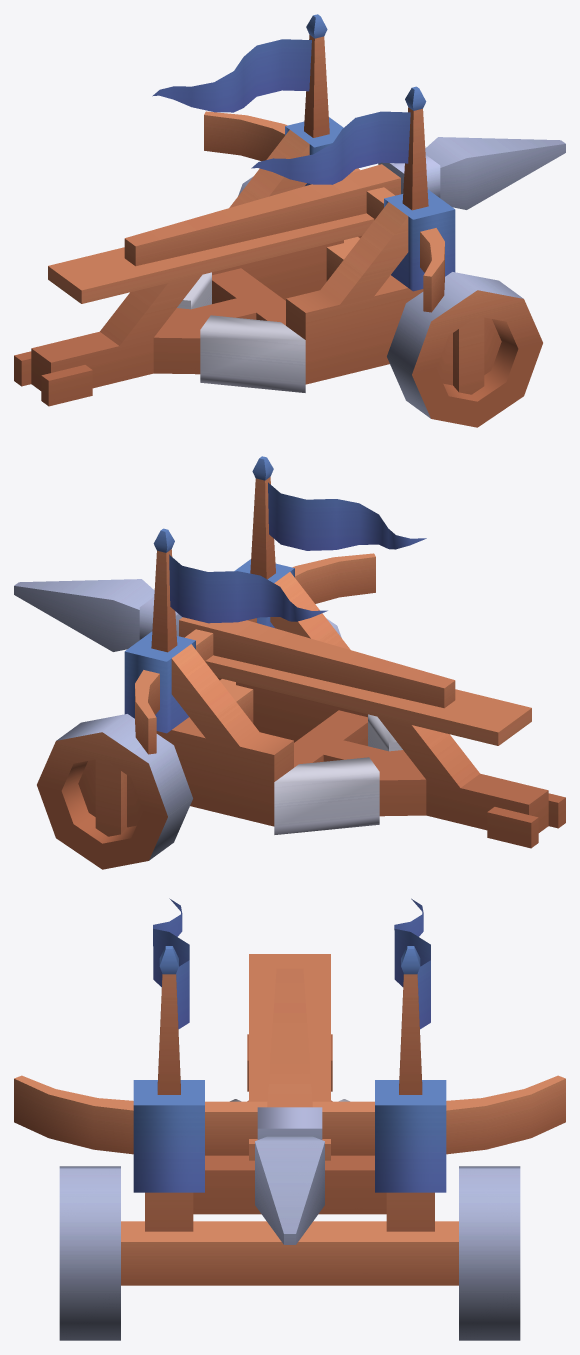
File: kenney-castle-kit--siege_ballista.glb
The picture shows the model from 3 angles, top to bottom: view 1: azimuth 30°, elevation 25°; view 2: azimuth 150°, elevation 25°; view 3: azimuth 270°, elevation 25°; orthographic projection. The views are drawn at different scales.
Parts seen in each view (by area): view 1: siege-ballista, wheel, arrow; view 2: siege-ballista, wheel, arrow; view 3: siege-ballista, wheel (×2), arrow.
Part boxes in pixels (x1,y1,x2,y2): siege-ballista: [14, 14, 455, 406]; wheel: [387, 272, 542, 427]; arrow: [124, 137, 565, 266]; siege-ballista: [124, 456, 565, 848]; wheel: [37, 714, 192, 869]; arrow: [14, 579, 455, 708]; siege-ballista: [14, 898, 565, 1285]; wheel (×2): [59, 1166, 520, 1340]; arrow: [255, 968, 324, 1244].
Bounding box in the file's own units: 1.63 × 0.9103 × 1.2.
1 material, 1 textured.
